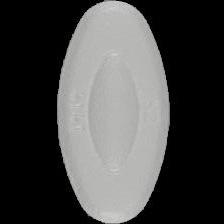54868-4396: (0, 0, 224, 224)
